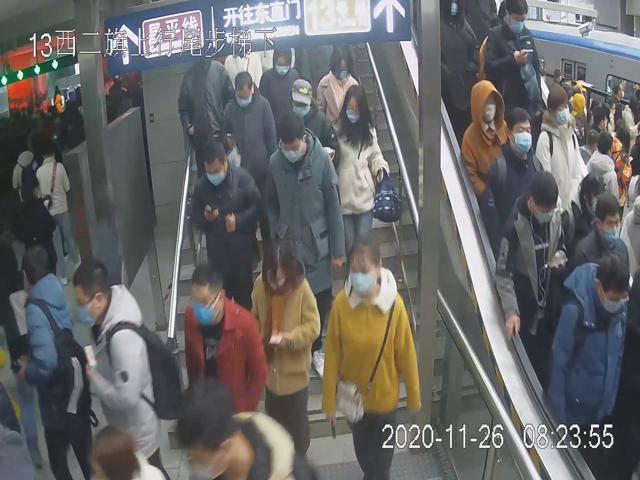person: (319, 232, 422, 476), (544, 249, 632, 448), (264, 111, 346, 313), (251, 238, 319, 465), (494, 170, 572, 347), (181, 261, 266, 421), (185, 138, 261, 304), (332, 86, 396, 276), (480, 100, 549, 237), (219, 70, 279, 190), (282, 72, 337, 168), (313, 38, 360, 129), (257, 44, 301, 136)
